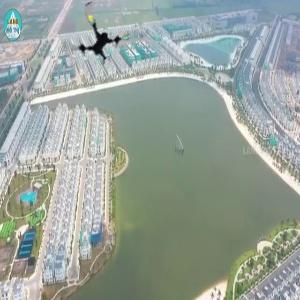drone: (67, 1, 134, 68)
